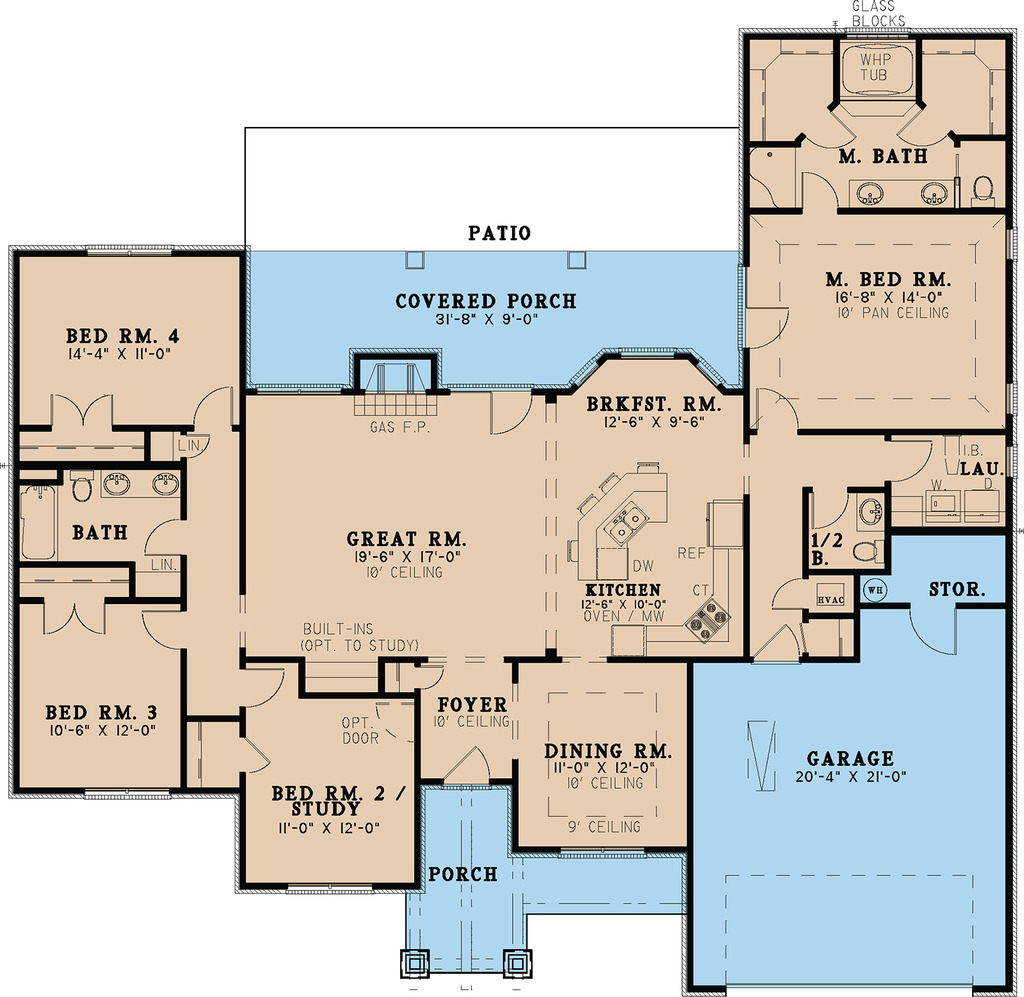door: (738, 297, 805, 357), (745, 382, 818, 434), (795, 100, 865, 149), (908, 600, 968, 655), (475, 383, 531, 439), (48, 395, 128, 434), (372, 694, 418, 751), (235, 661, 294, 705), (191, 377, 237, 432), (743, 622, 806, 662), (142, 514, 192, 562), (42, 597, 106, 634), (888, 435, 934, 486), (898, 109, 957, 146), (143, 609, 191, 652), (806, 491, 855, 532), (765, 575, 815, 615), (798, 168, 838, 215), (406, 659, 449, 699), (449, 745, 492, 783), (238, 737, 278, 777), (182, 431, 215, 462)
kitchen_bar: (563, 460, 680, 582)
large_sink: (846, 534, 895, 569), (63, 467, 108, 499), (968, 166, 998, 214)
small_sink: (851, 169, 958, 214), (100, 465, 188, 503), (857, 489, 880, 534)
tub: (18, 480, 68, 562)
window: (75, 783, 189, 805), (85, 237, 168, 263), (554, 845, 654, 862), (278, 883, 378, 899)
